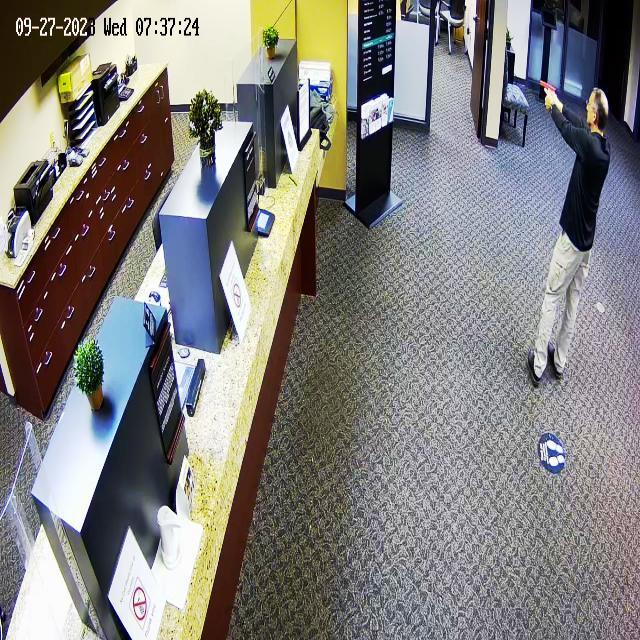Gun: (536, 76, 566, 122)
